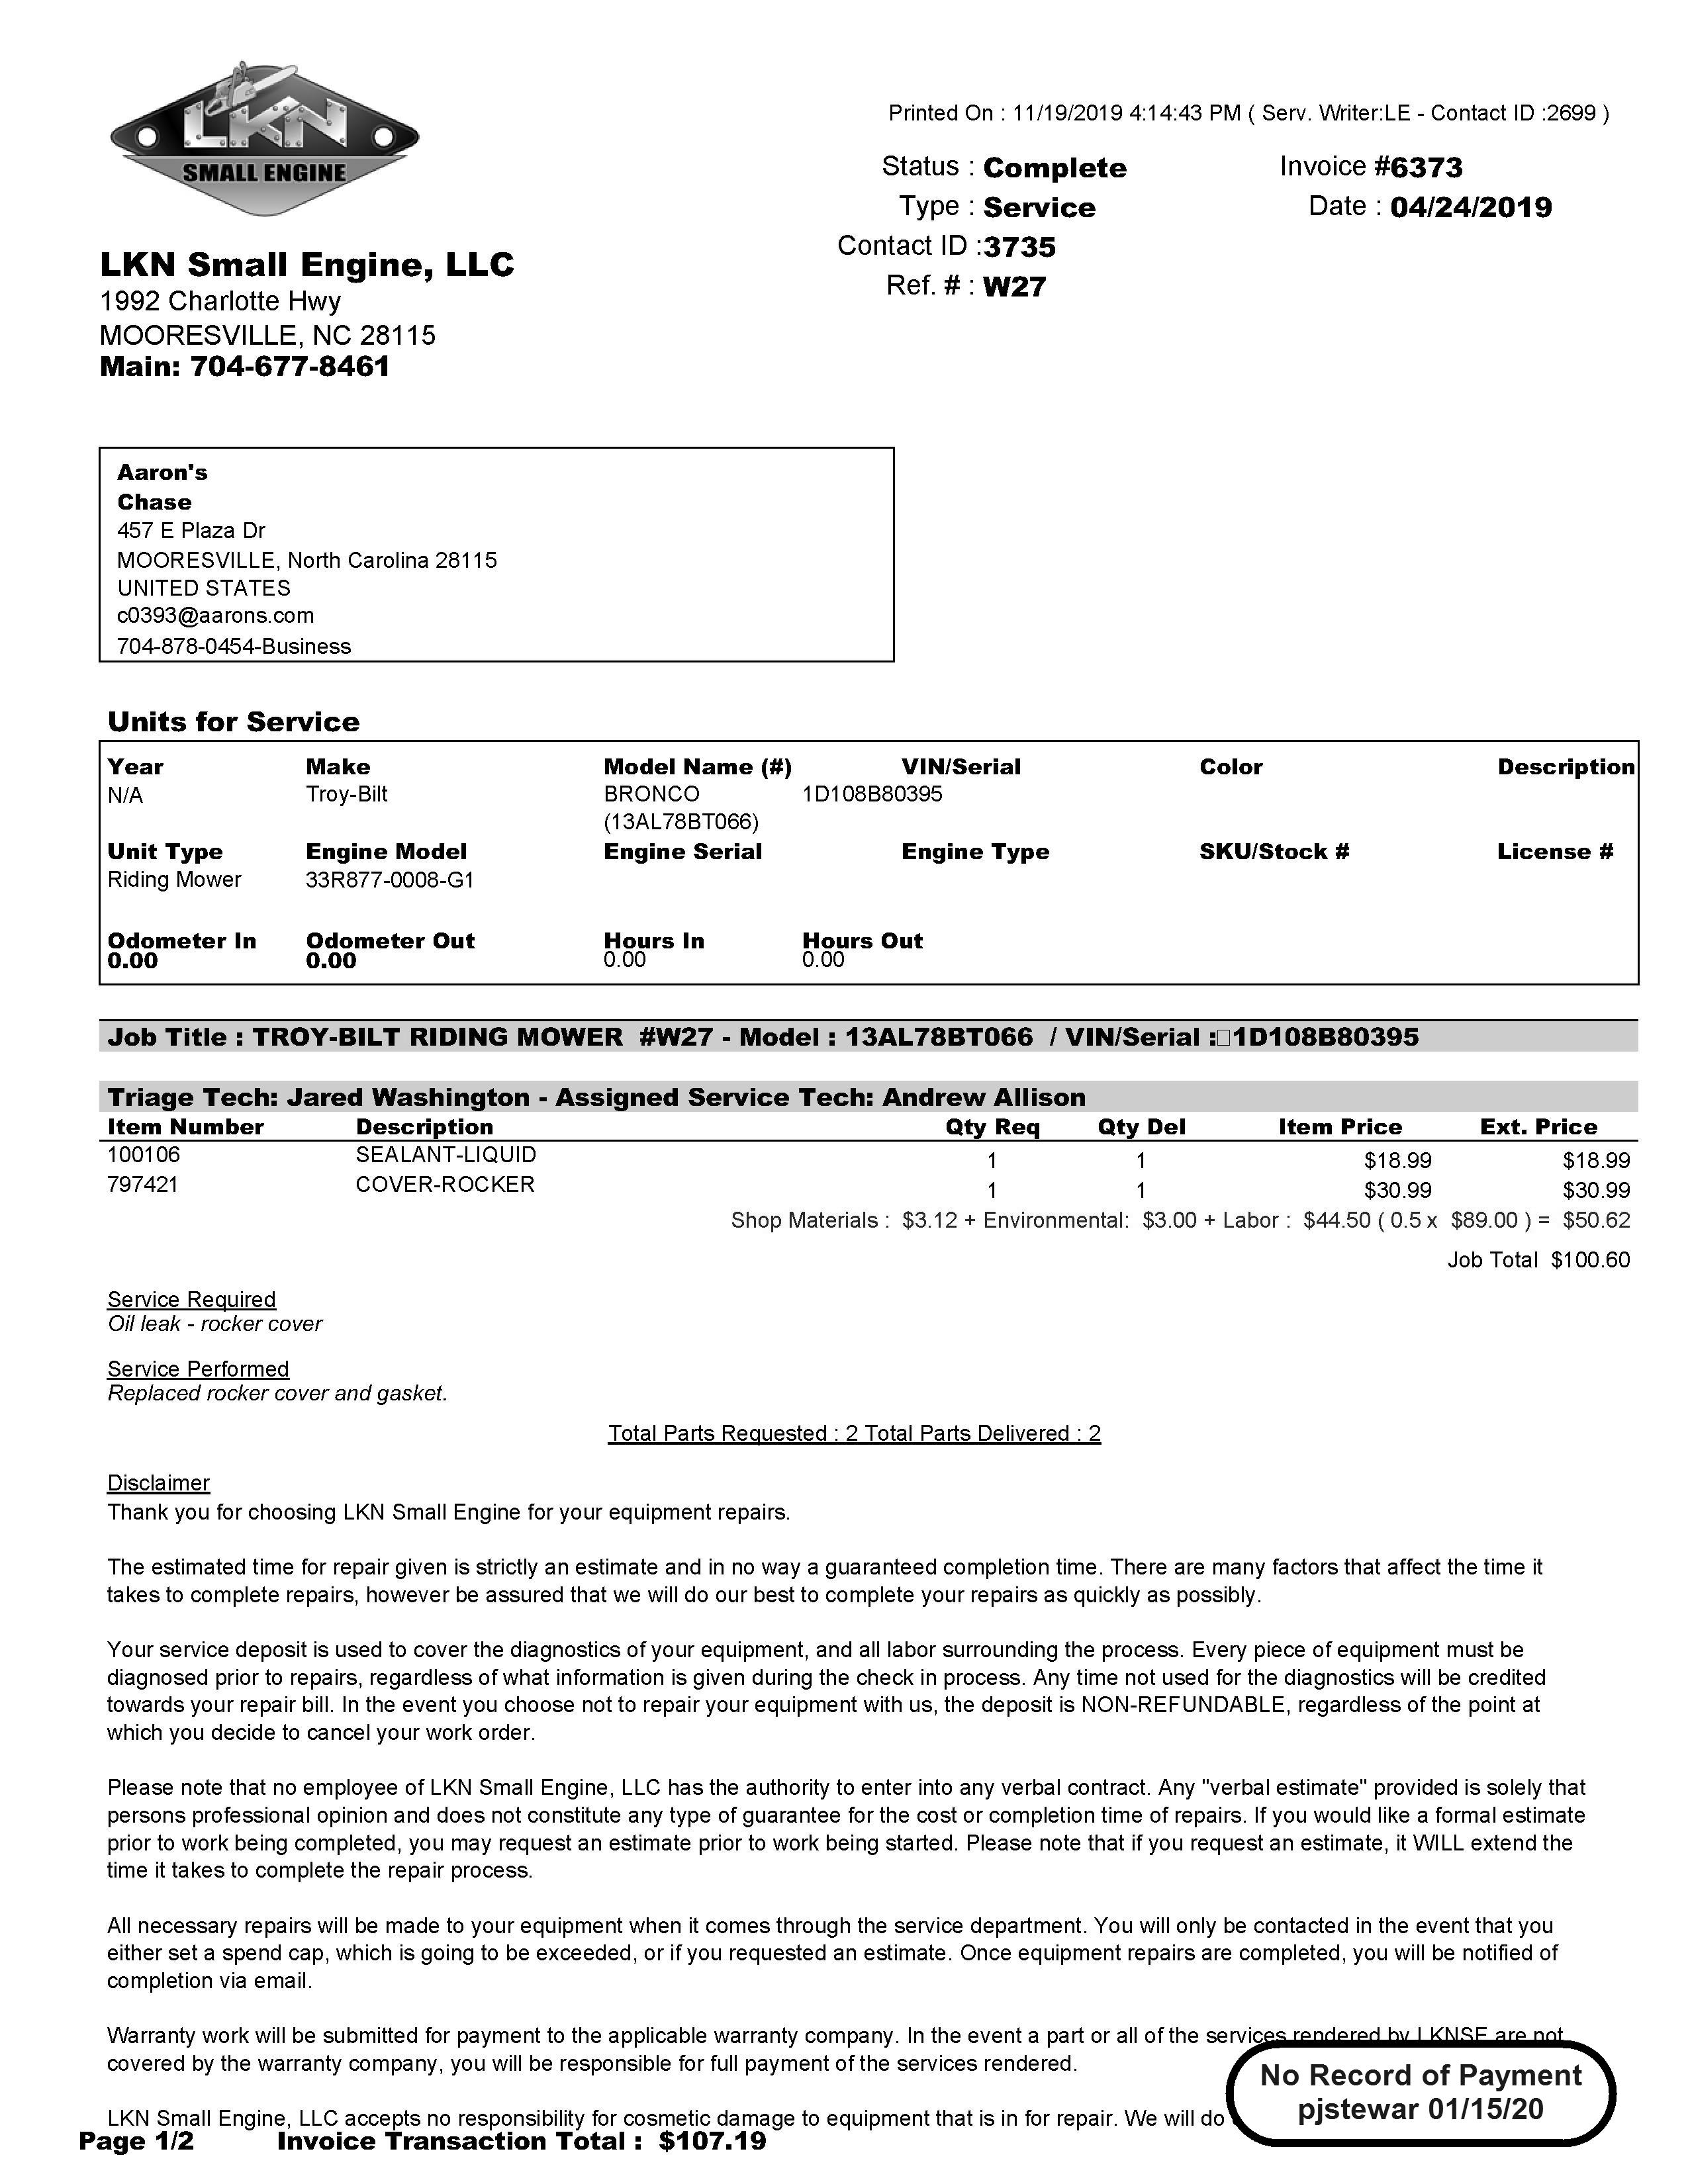B_Paragraph: (106, 1500, 1576, 2048), (106, 457, 509, 663), (830, 144, 1135, 303), (96, 1019, 1433, 1053), (99, 291, 450, 388), (106, 2104, 1234, 2133), (105, 1081, 1098, 1113), (1270, 149, 1582, 236), (876, 97, 1621, 133), (1252, 2051, 1589, 2129), (608, 1416, 1112, 1455), (275, 2129, 773, 2164), (105, 1379, 450, 1413), (110, 1314, 326, 1345), (76, 2127, 200, 2164)
B_SubTitle: (105, 752, 1638, 991), (112, 706, 385, 745), (106, 1287, 291, 1314), (106, 1356, 293, 1379), (106, 1470, 223, 1500)
B_Table: (101, 1119, 1629, 1276)
B_Title: (99, 236, 511, 294)
I_Paragraph: (105, 2051, 1094, 2081)
